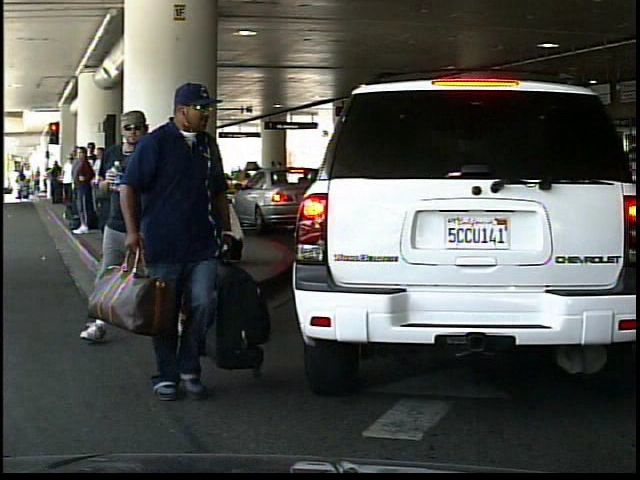person: (142, 81, 270, 411), (95, 100, 177, 337), (164, 132, 222, 265)
